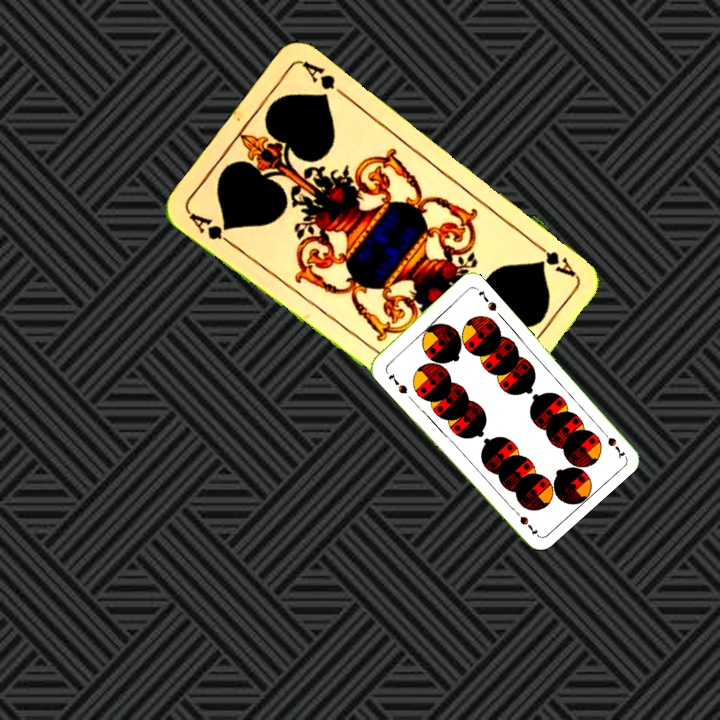GA: (528, 237, 579, 280), (185, 208, 236, 249)
S7: (596, 425, 627, 461), (384, 370, 410, 396)
